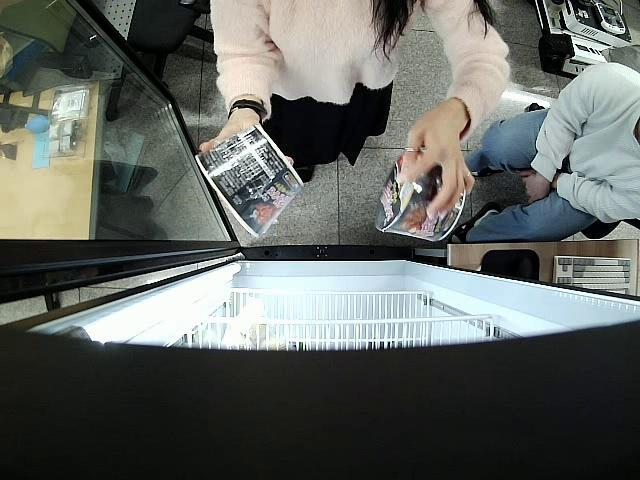07_buldak_L: (194, 124, 303, 237), (372, 146, 466, 243)
